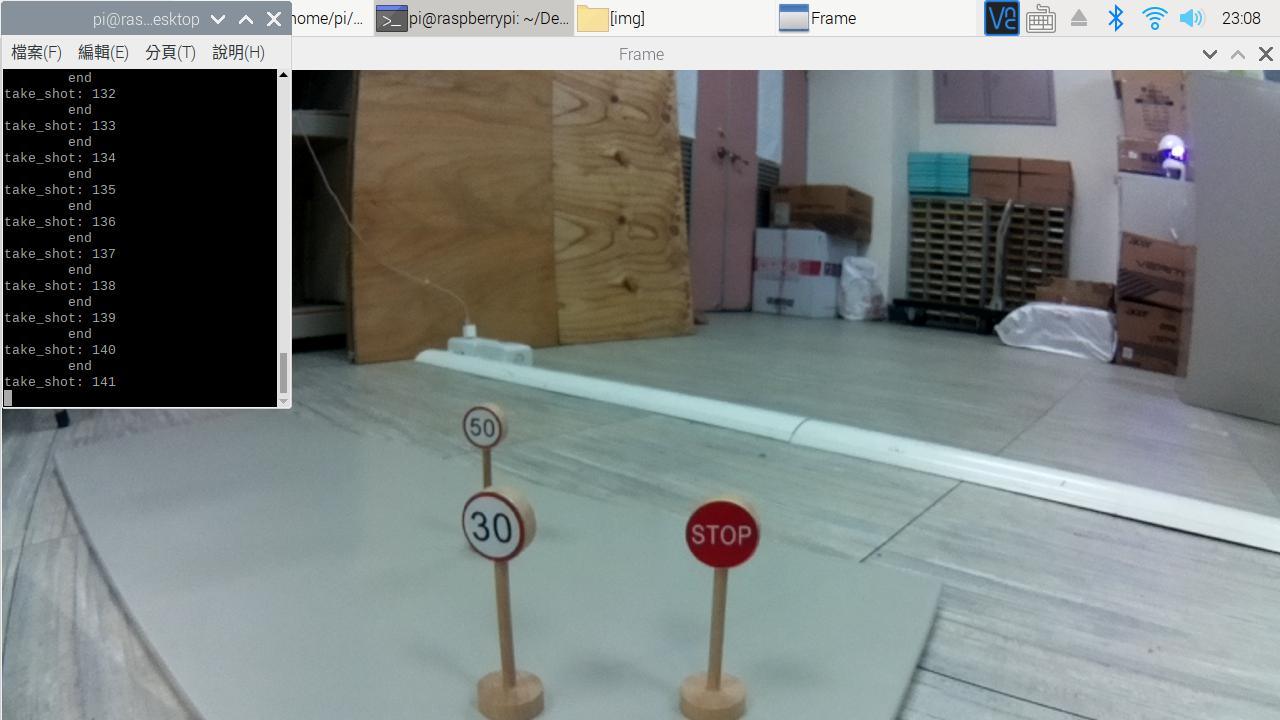Speed30: (451, 478, 548, 578)
Speed50: (453, 399, 509, 463)
Stop: (655, 490, 781, 588)
